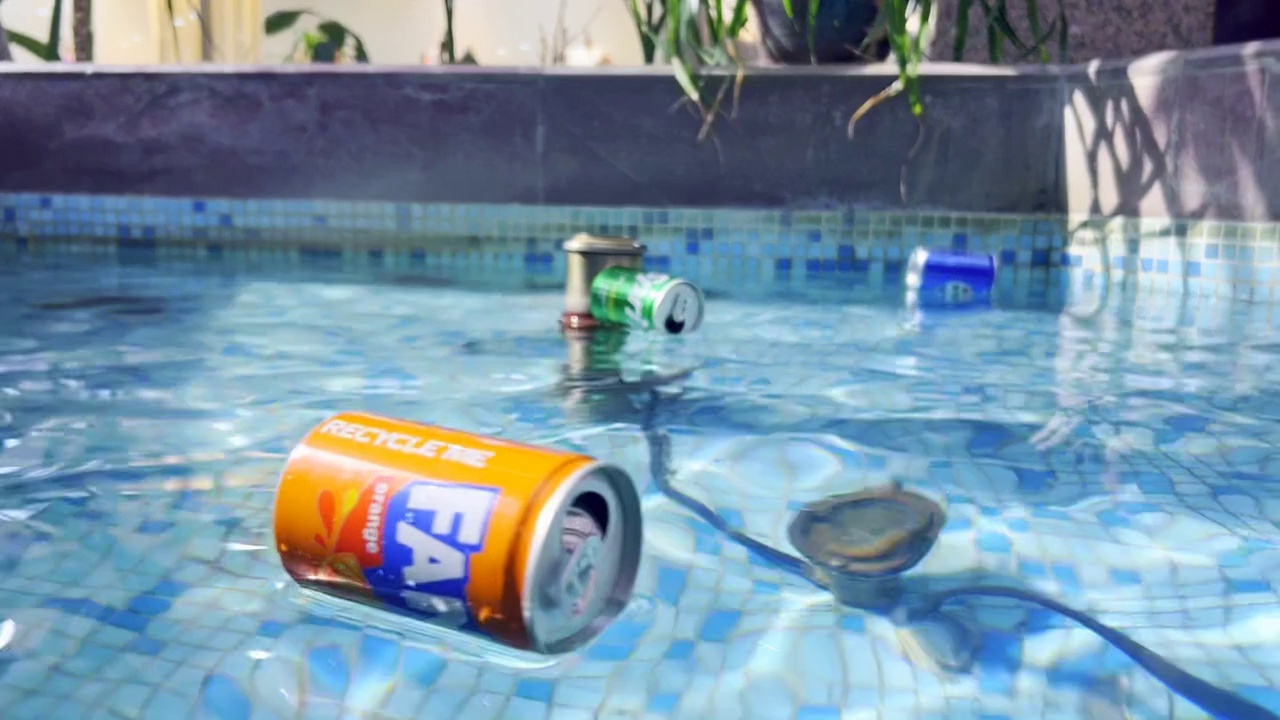debris: (264, 393, 655, 664), (585, 252, 711, 349), (903, 237, 1002, 304)
